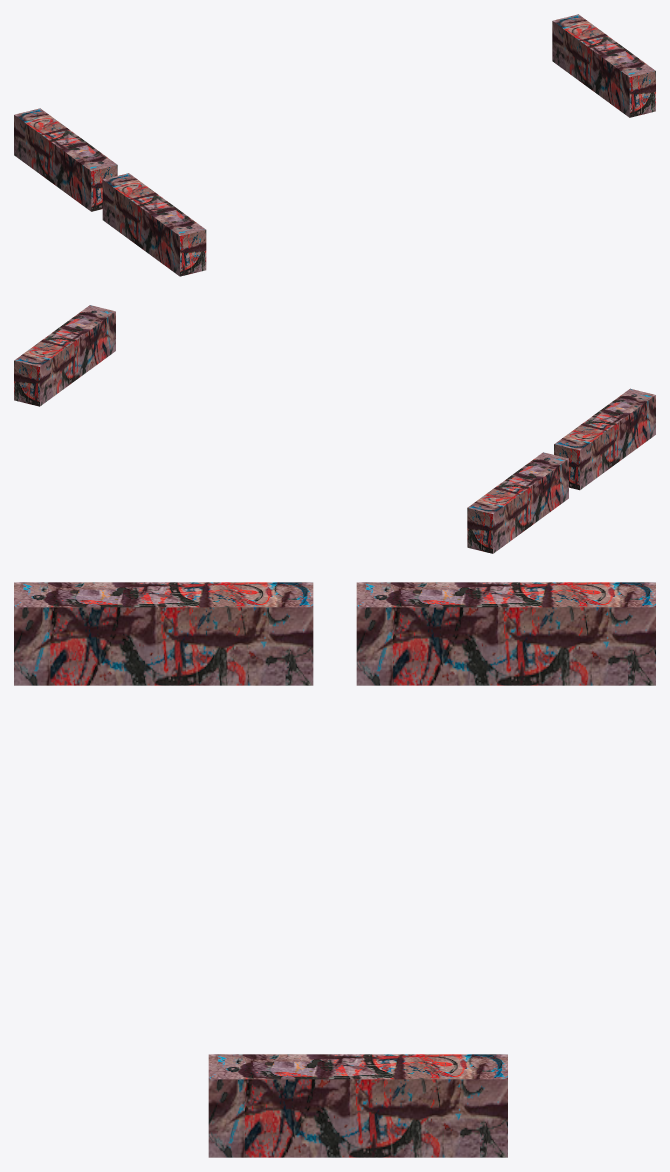
Rendered from decor2.obj.
The picture shows the model from 3 angles, top to bottom: view 1: azimuth 30°, elevation 25°; view 2: azimuth 150°, elevation 25°; view 3: azimuth 270°, elevation 25°; orthographic projection. The views are drawn at different scales.
Visible parts, largest first — view 1: Cube.041, Cube.045_Cube.078, Cube.042; view 2: Cube.042, Cube.045_Cube.078, Cube.041; view 3: Cube.041, Cube.042, Cube.045_Cube.078.
Part boxes in pixels (x1,y1,x2,y2): Cube.041: (102,173,206,276); Cube.045_Cube.078: (552,14,655,117); Cube.042: (14,108,117,211); Cube.042: (467,452,568,553); Cube.045_Cube.078: (14,305,115,406); Cube.041: (554,388,655,490); Cube.041: (14,582,313,685); Cube.042: (356,582,655,685); Cube.045_Cube.078: (208,1054,507,1157).
Bounding box in the file's own units: 30016 × 2207 × 16391.
1 material, 1 textured.
